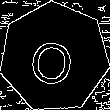O_N: (29, 29, 80, 86)
